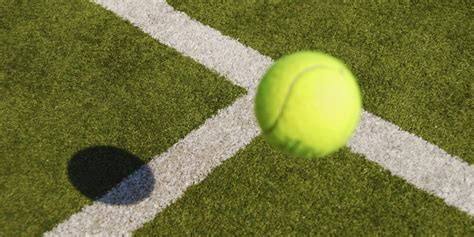tennis_ball: (255, 49, 362, 159)
